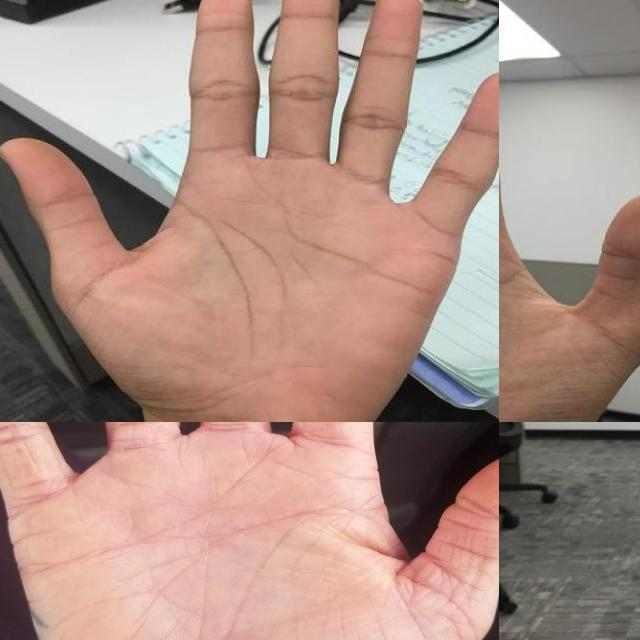no-gloves: (0, 0, 499, 422), (0, 422, 499, 640), (499, 69, 640, 422)
